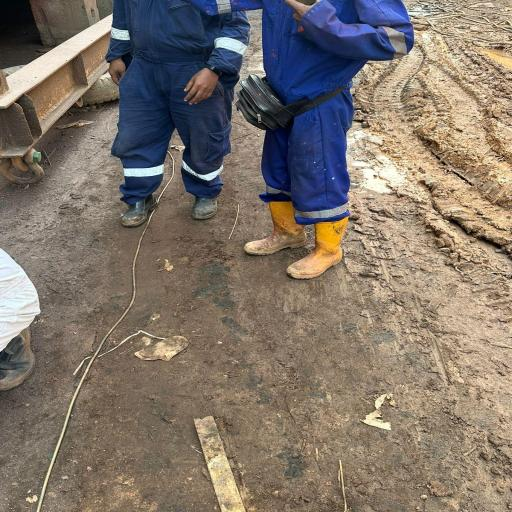safety_shoe: (283, 224, 355, 278), (240, 202, 308, 256), (116, 194, 160, 228), (186, 190, 220, 221)
